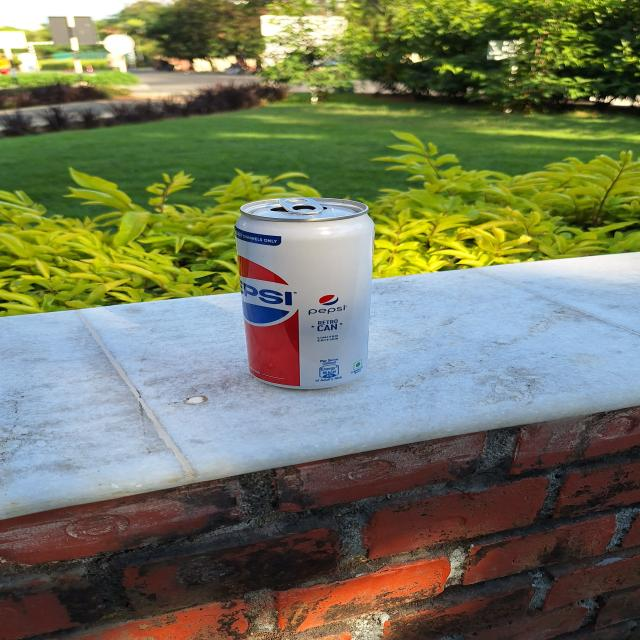Pepsi Retro: (226, 198, 379, 389)
